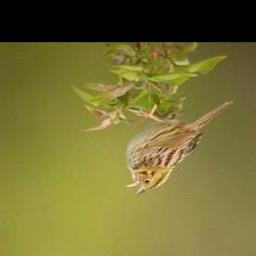Sparrow: (126, 99, 235, 197)
